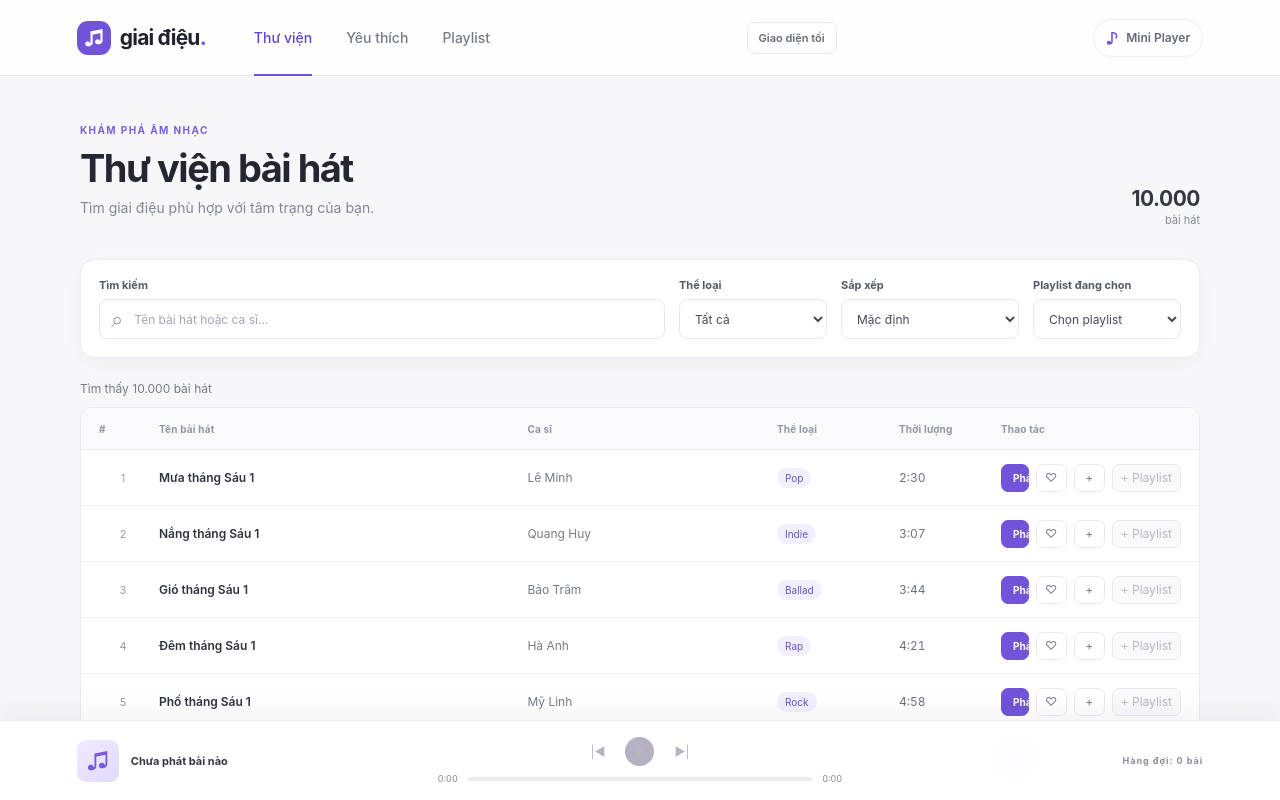
Ứng dụng trình phát nhạc › hiển thị trạng thái rỗng khi không có kết quả tìm kiếm
Step 1. Type "bài hát không tồn tại" into the search field labelled "Tìm kiếm" → [393, 319], box [132,311,653,328]
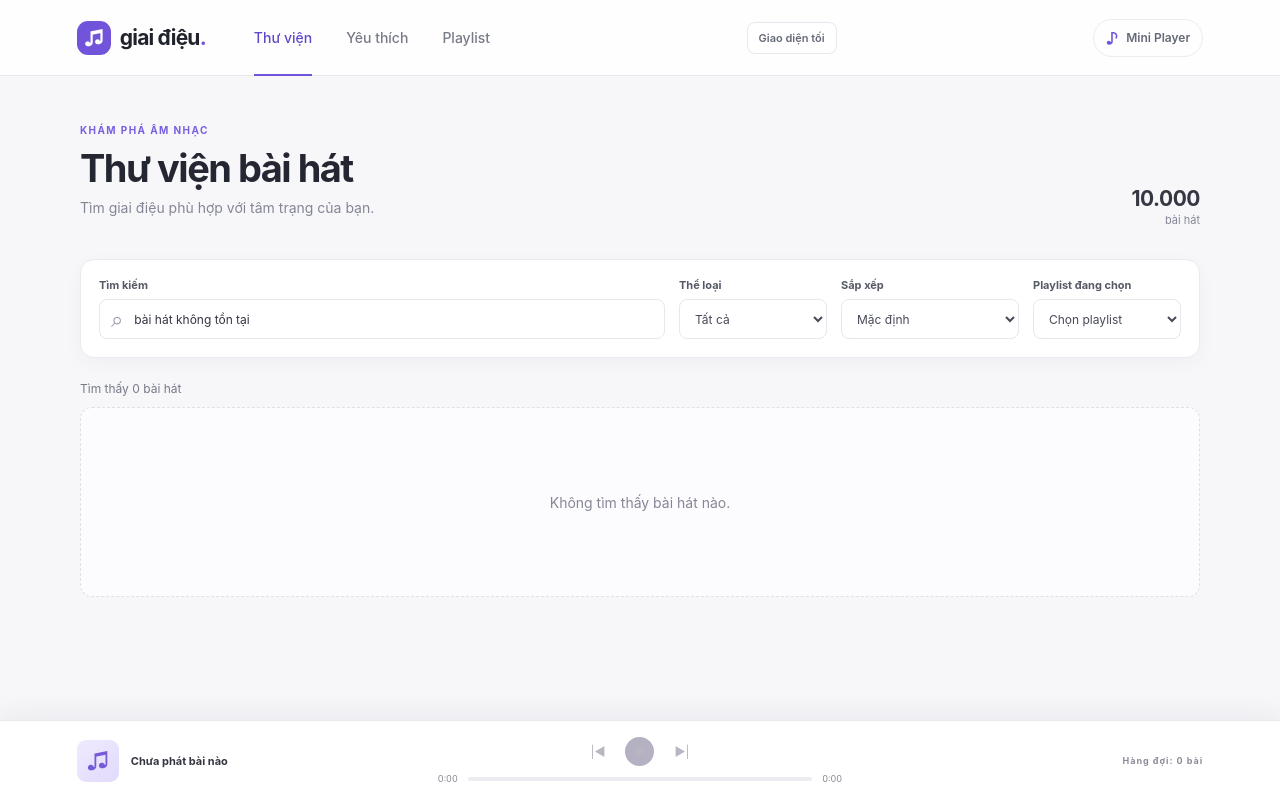
Expected: the text "Không tìm thấy bài hát nào." is shown, [80,407,1200,597]
